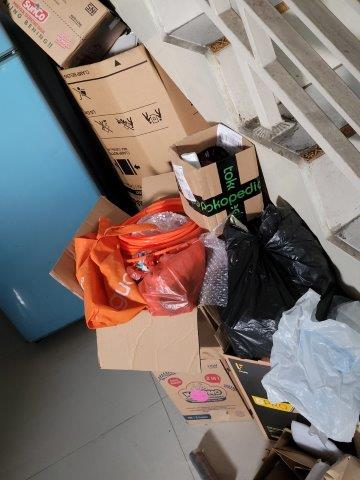kardus: (60, 50, 197, 201), (98, 318, 258, 428), (171, 124, 269, 227)
plastik: (263, 295, 360, 442), (230, 206, 338, 327), (136, 253, 203, 316)
